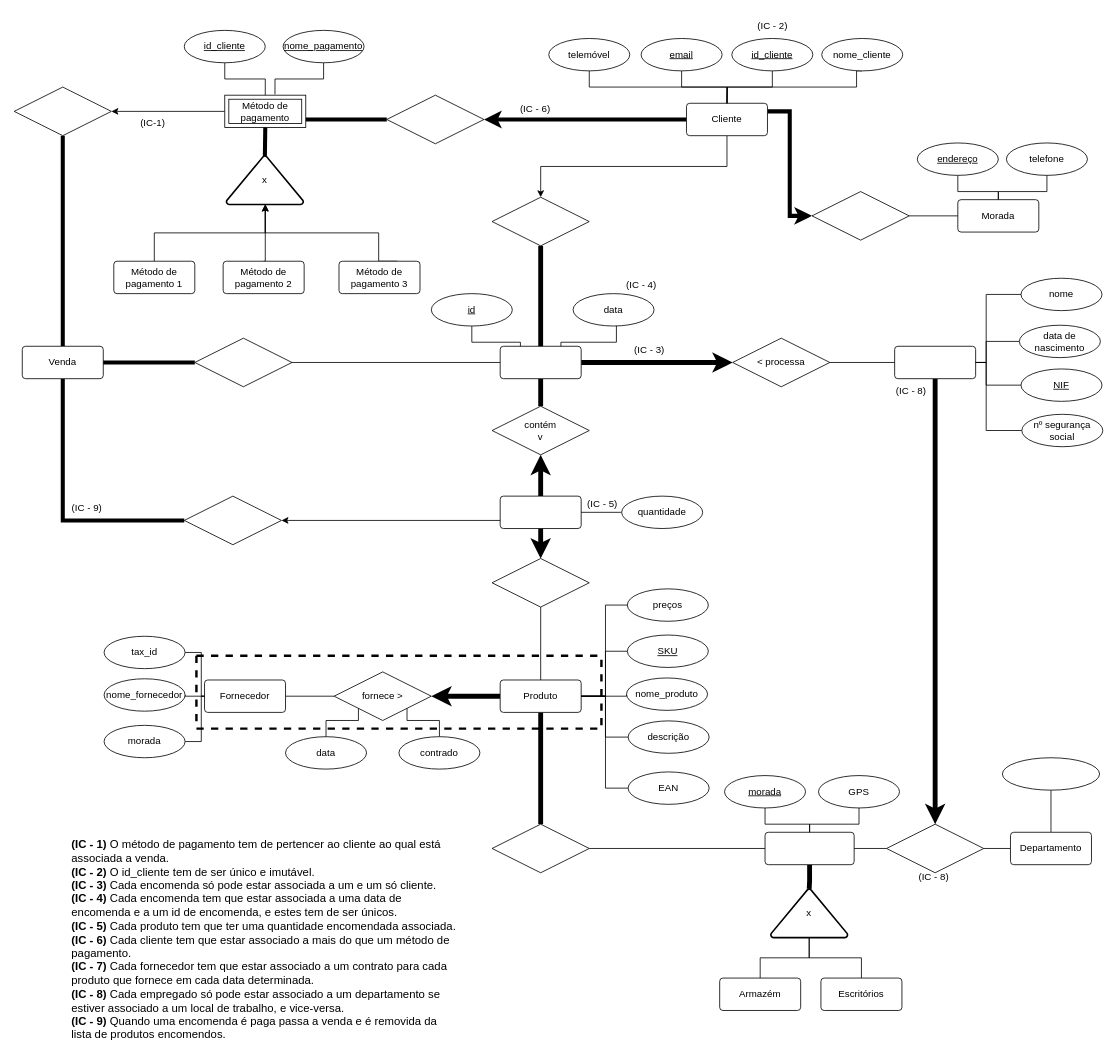
Some shapes in this 1117 by 1059 pixel diagram are drawn without their labels. The centre of each missing label's shape, as x and y in pixels:
"(IC - 7)" goes at pixel 398 691.
"< origina" goes at pixel 243 362.
"< tem" goes at pixel 435 119.
"< trabalha em >" goes at pixel 935 848.
"Empregado" goes at pixel 935 362.
"Encomenda" goes at pixel 540 362.
"faz v" goes at pixel 540 221.
"fornecido em >" goes at pixel 540 848.
"Locais de trabalho" goes at pixel 809 848.
"nome_departamento" goes at pixel 1051 773.
"Produtos encomendados" goes at pixel 540 512.
"referente v" goes at pixel 540 582.
"requer >" goes at pixel 232 520.
"tem >" goes at pixel 860 215.
"tem um >" goes at pixel 62 111.
